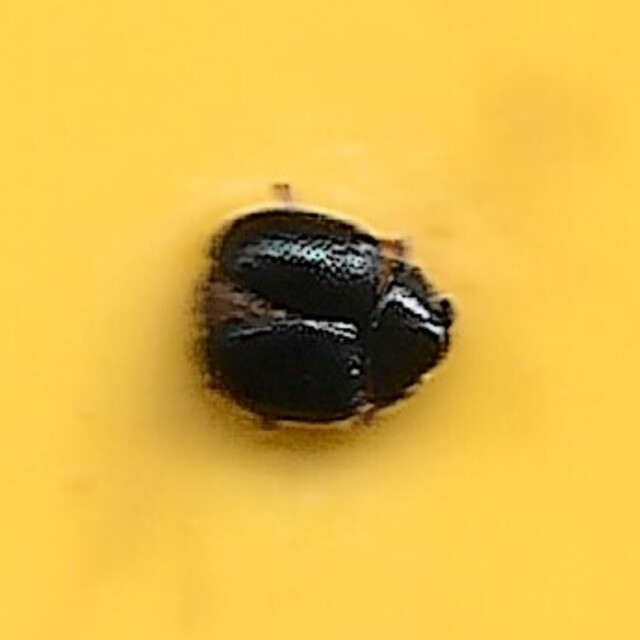Coleoptera: (186, 205, 454, 435)
